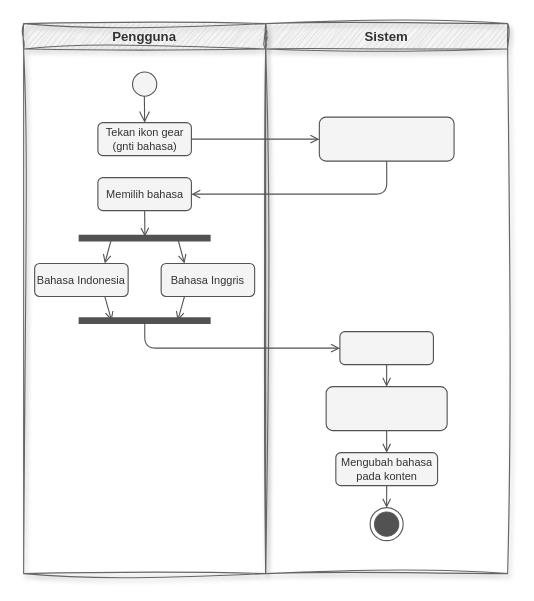
This 534x601 diagram has some shape labels left out. Here are the shapes that lost their labels. From the top down, the centre of each, then its label:
At point 386,138: "Mengarahkan pengguna ke daftar preferensi bahasa".
At point 386,348: "Memproses aksi".
At point 386,408: "Mengarahkan pengguna ke beranda aplikasi".
